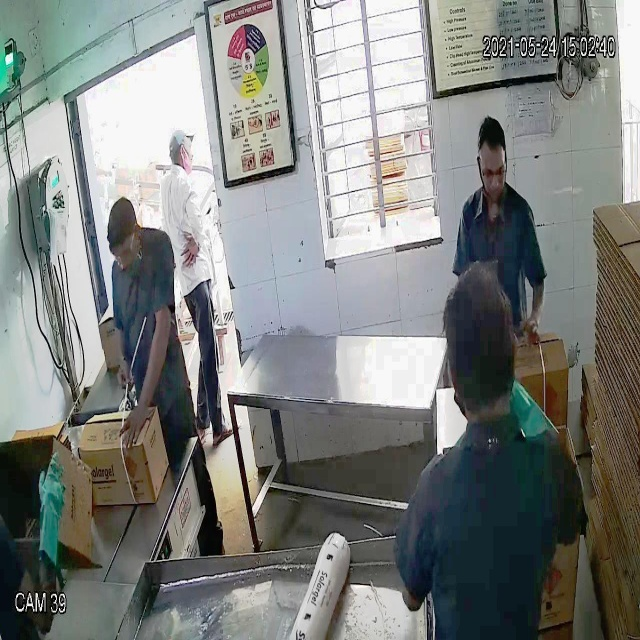Gafas: (476, 153, 508, 185), (108, 235, 138, 268)
